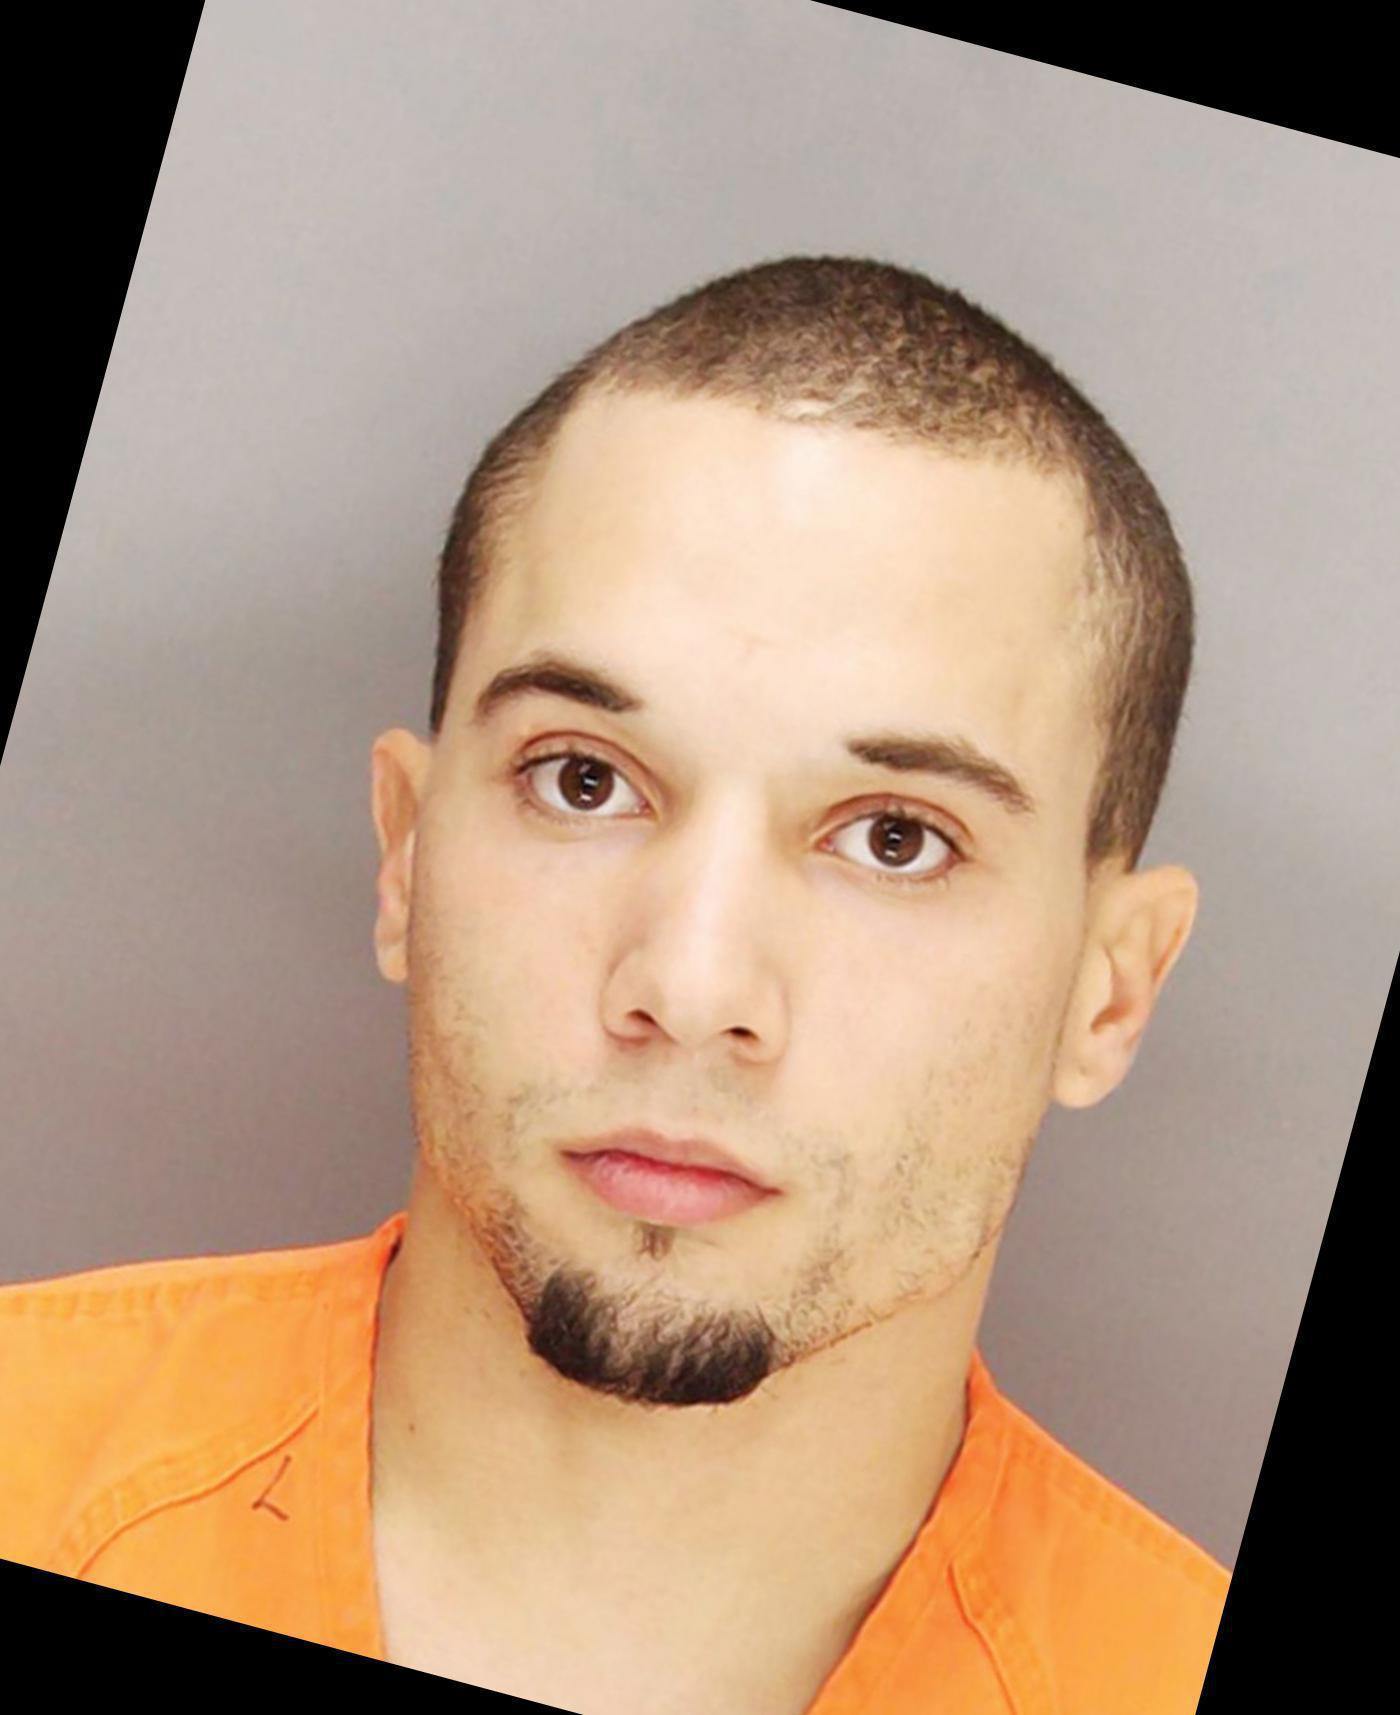Sober: (464, 402, 1040, 1365)
